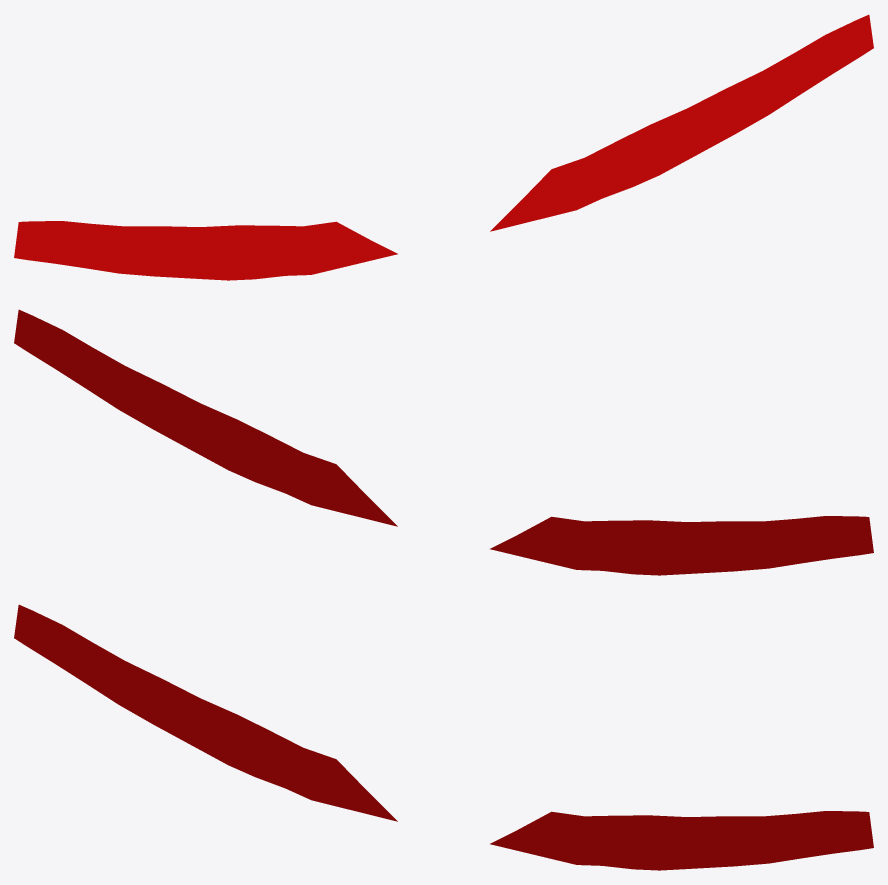
The model's file is frame58.fbx.
The picture shows the model from 3 angles, top to bottom: view 1: azimuth 30°, elevation 25°; view 2: azimuth 150°, elevation 25°; view 3: azimuth 330°, elevation 25°; orthographic projection.
Visible parts, largest first — view 1: MaterialLayer; view 2: MaterialLayer; view 3: MaterialLayer.
Boxes of the visible parts, box(x1,y1,x2,y2) form: MaterialLayer: box(14, 14, 873, 280); MaterialLayer: box(14, 309, 873, 575); MaterialLayer: box(14, 604, 873, 870).
Bounding box in the file's own units: 1244 × 172 × 0.
